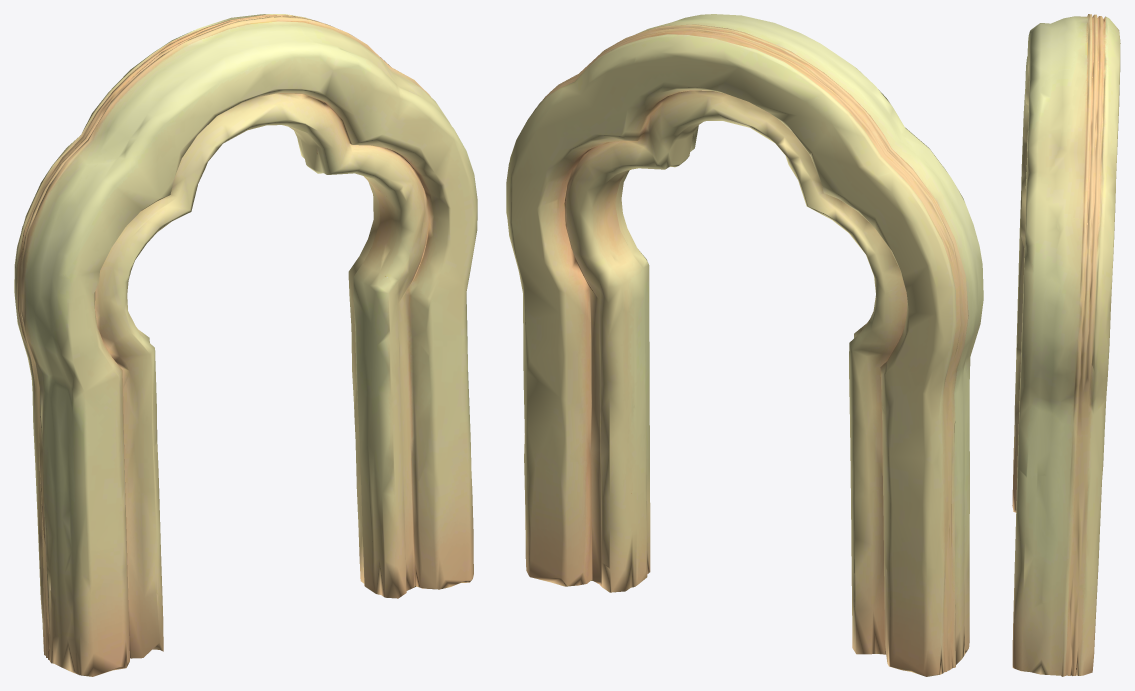
Rendered from source.glb.
3 views of the same model, side by side, from view 1: azimuth 30°, elevation 25°; view 2: azimuth 150°, elevation 25°; view 3: azimuth 270°, elevation 25° (orthographic). The views are drawn at different scales.
Parts seen in each view (by area): view 1: tripo_node_488fb68d-6522-4da3-b864-5036f7a10757; view 2: tripo_node_488fb68d-6522-4da3-b864-5036f7a10757; view 3: tripo_node_488fb68d-6522-4da3-b864-5036f7a10757.
Part boxes in pixels (box(x1,y1,x2,y2)): tripo_node_488fb68d-6522-4da3-b864-5036f7a10757: box(14, 14, 477, 676); tripo_node_488fb68d-6522-4da3-b864-5036f7a10757: box(506, 14, 983, 676); tripo_node_488fb68d-6522-4da3-b864-5036f7a10757: box(1012, 14, 1120, 676).
Bounding box in the file's own units: 1.11 × 1.4 × 0.2491.
1 material, 1 textured.
